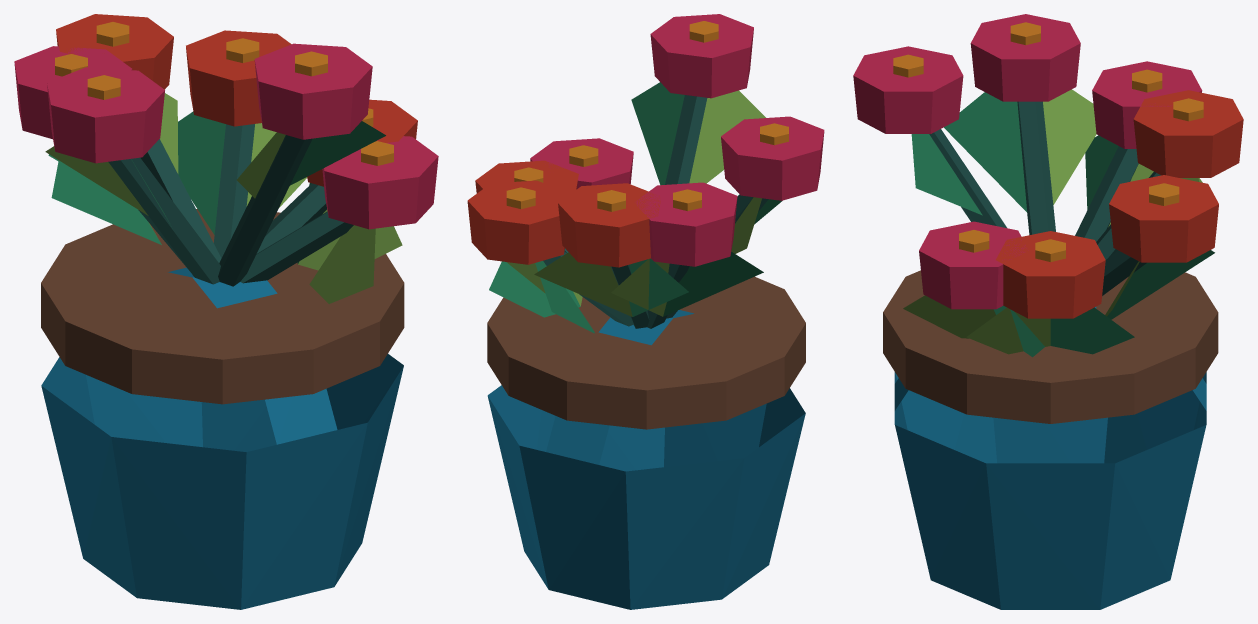
The model's file is flower-pot-teal.glb.
3 views of the same model, side by side, from view 1: azimuth 30°, elevation 25°; view 2: azimuth 150°, elevation 25°; view 3: azimuth 270°, elevation 25° (orthographic). The views are drawn at different scales.
Parts seen in each view (by area): view 1: flower-pot-teal; view 2: flower-pot-teal; view 3: flower-pot-teal.
Part boxes in pixels (x1,y1,x2,y2): flower-pot-teal: [14, 14, 438, 609]; flower-pot-teal: [467, 14, 824, 609]; flower-pot-teal: [853, 14, 1243, 609].
Size of the model in its own units: 0.602 by 0.854 by 0.6012.
